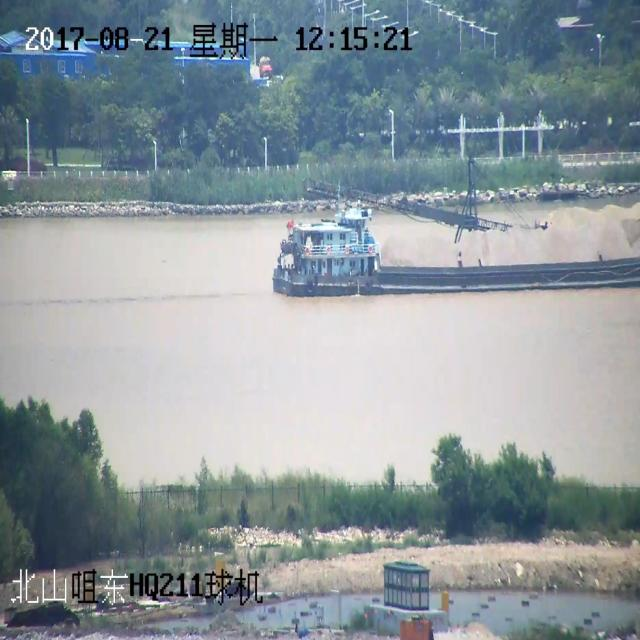cargoship: (270, 142, 640, 291)
